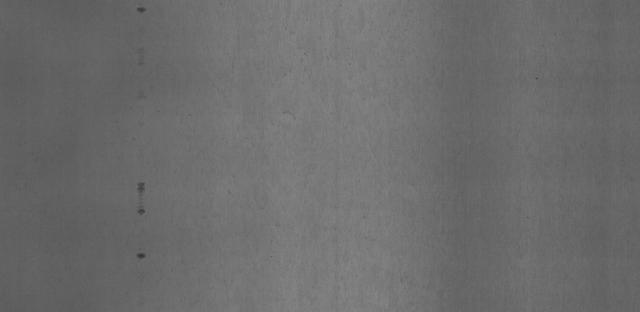oil_spot: (132, 178, 149, 221), (136, 244, 148, 263), (134, 5, 146, 18)
